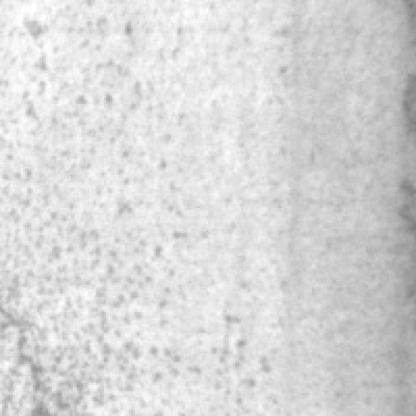pitted_surface: (0, 12, 260, 412)
